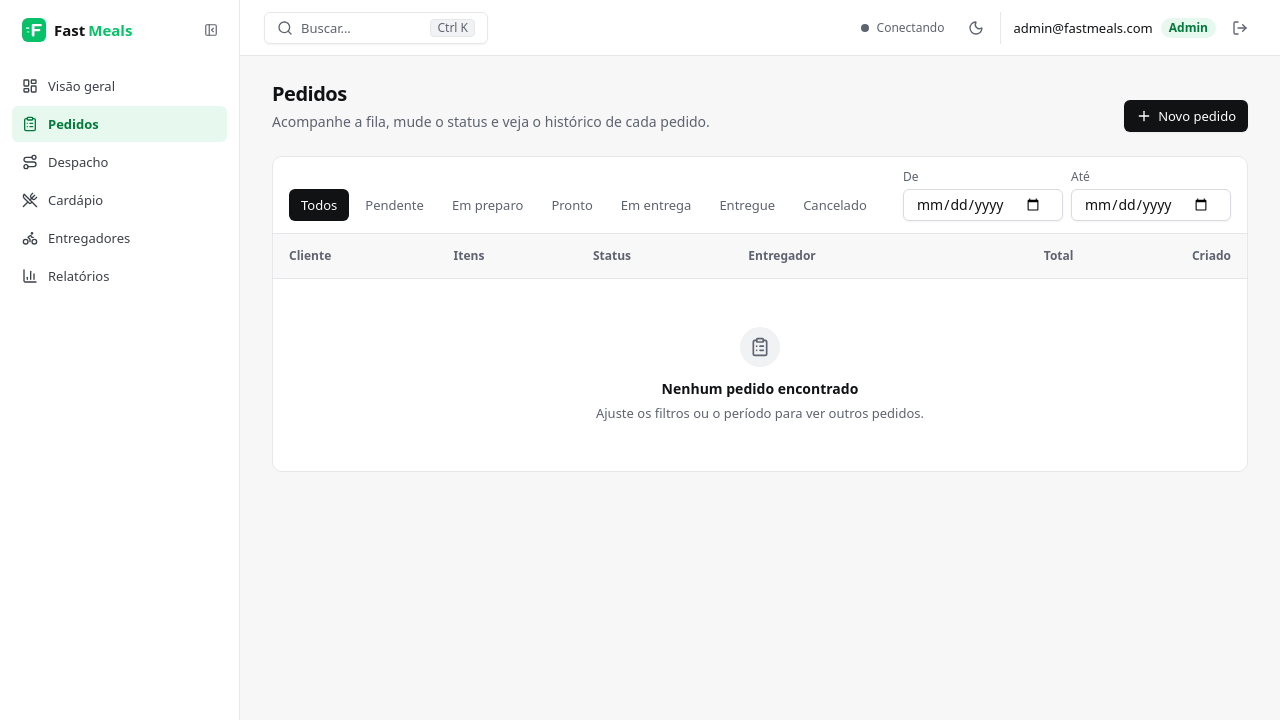
Test case: command palette › opens with Ctrl+K, filters as you type and navigates with the keyboard
Expected: the heading "Pedidos" is shown, [272,80,347,107]
Type keys "{Control>}k{/Control}"
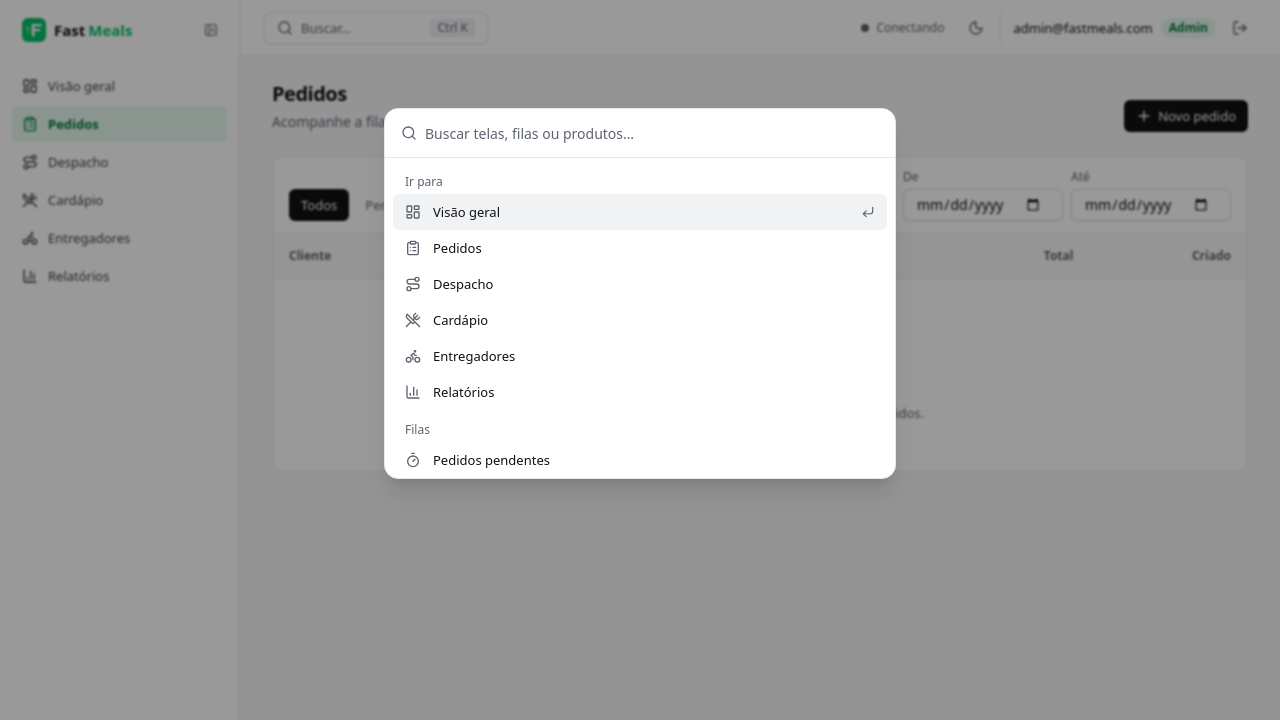
// Sem acento e em minúsculas também acha.
In the dropdown labelled "Buscar telas, filas ou produtos": (652, 133) [425,109,879,157], type "cardapio"
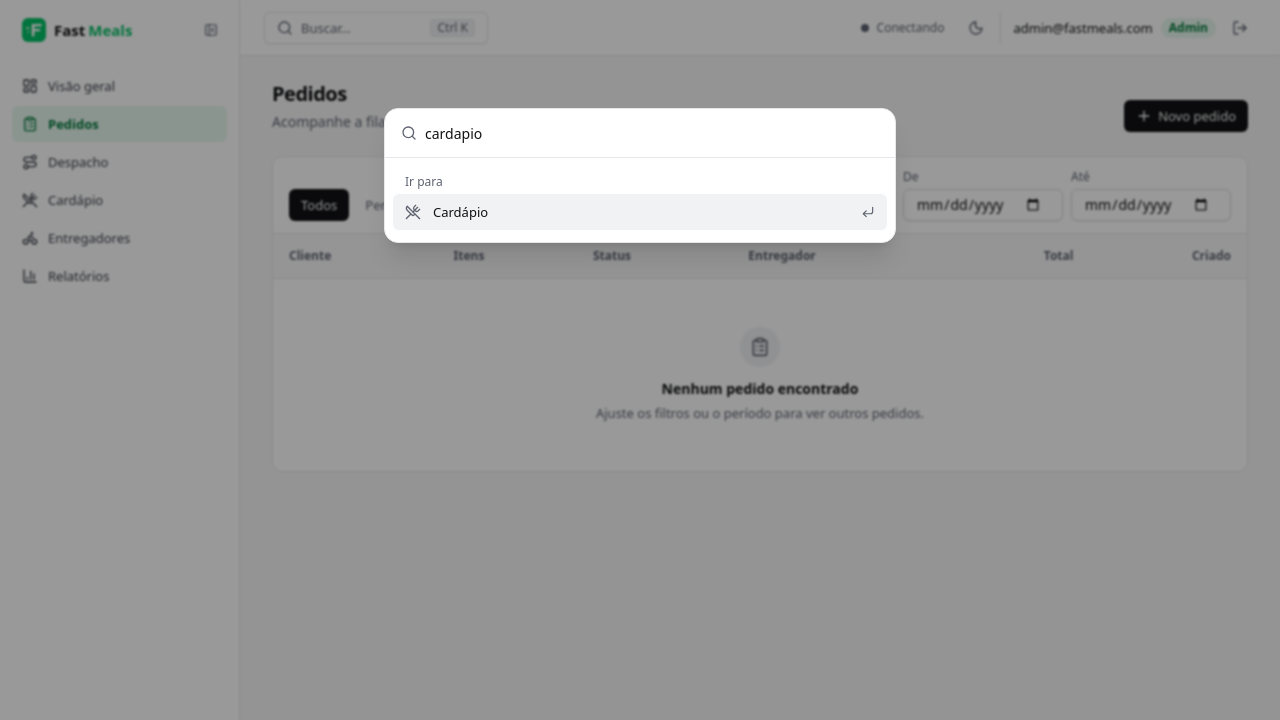
Now the number of options is 1, box [393,194,887,230]
Press Enter
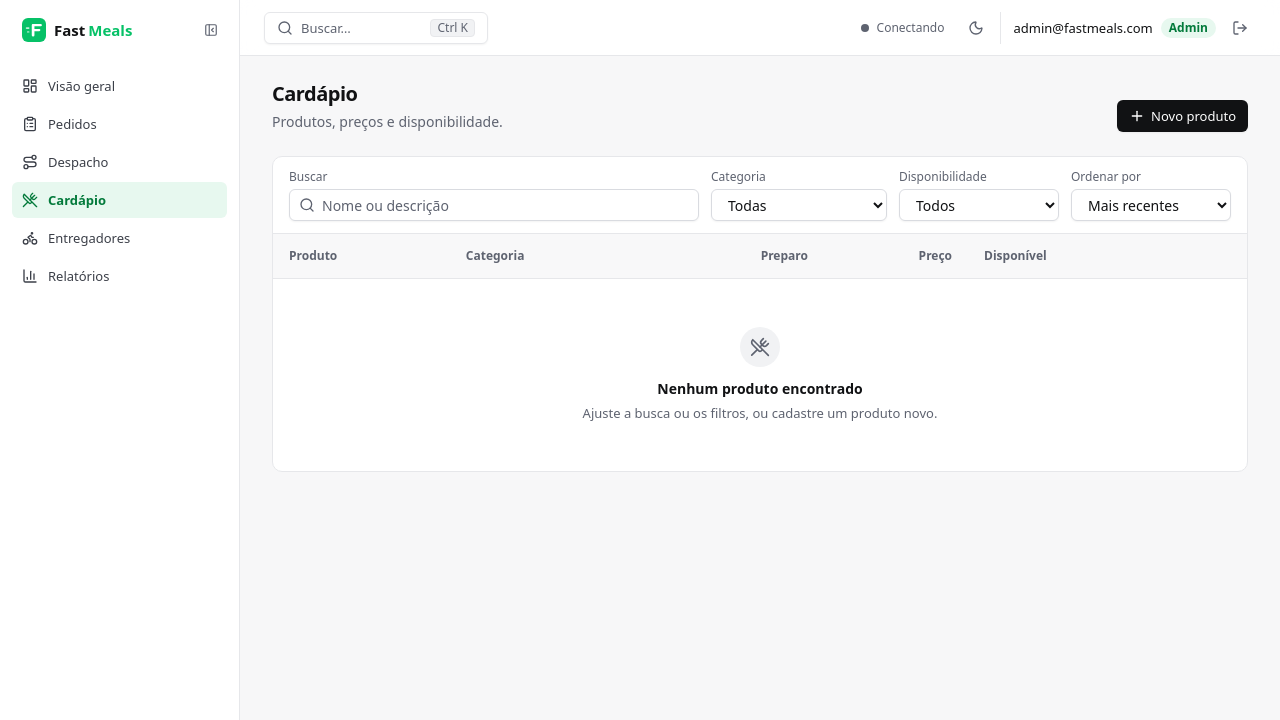
Expected: the dropdown labelled "Buscar telas, filas ou produtos" is not shown
Now the heading "Cardápio" is shown, box [272,80,357,107]
